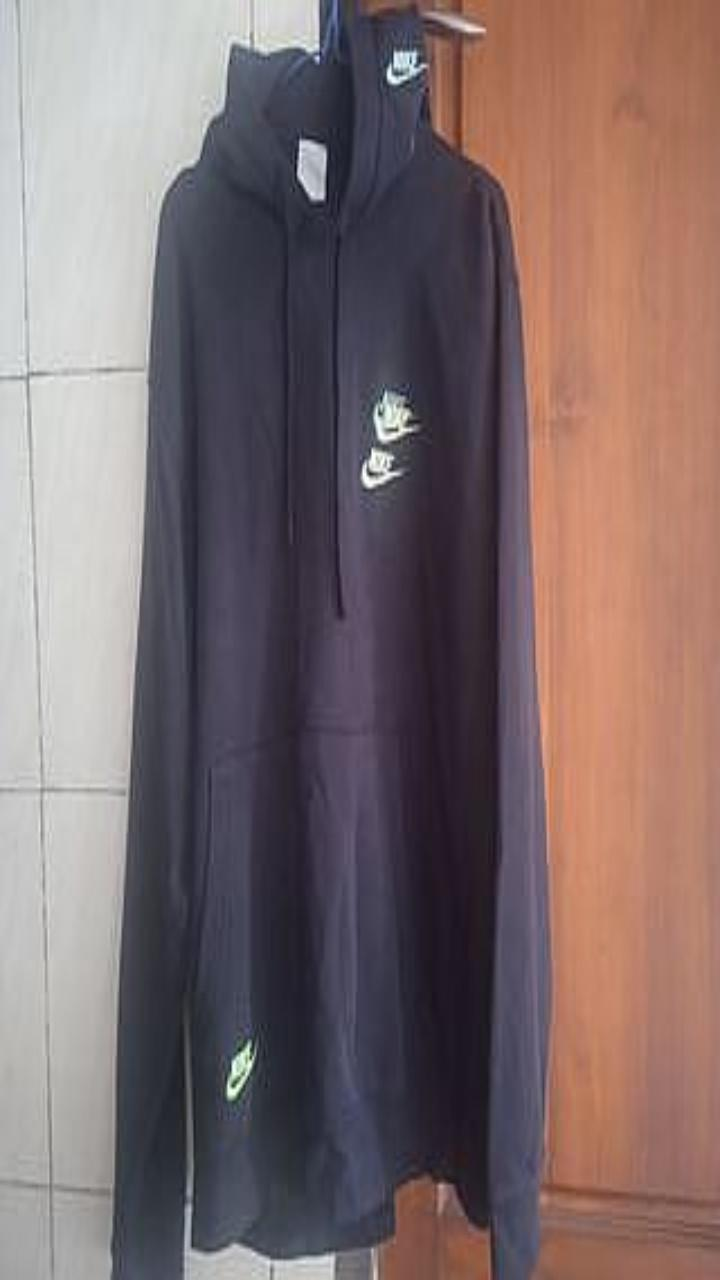Hoodie: (112, 6, 550, 1279)
